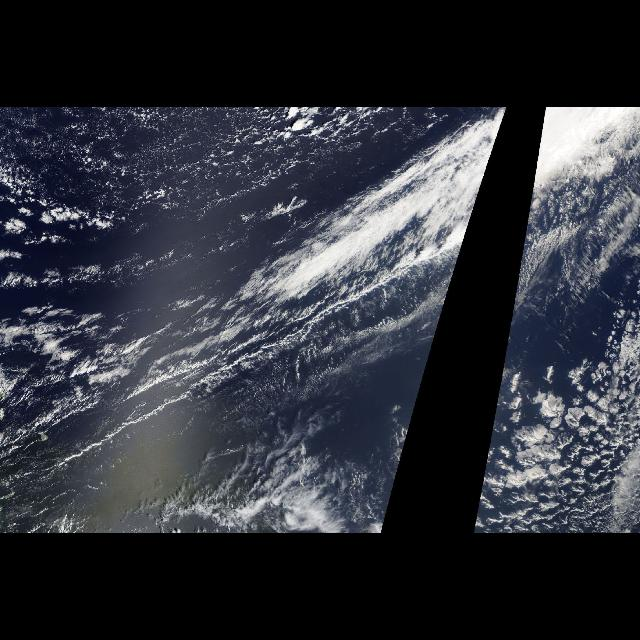Fish: (3, 108, 507, 476), (496, 109, 632, 398)
Gravel: (1, 108, 340, 216), (476, 351, 634, 527)
